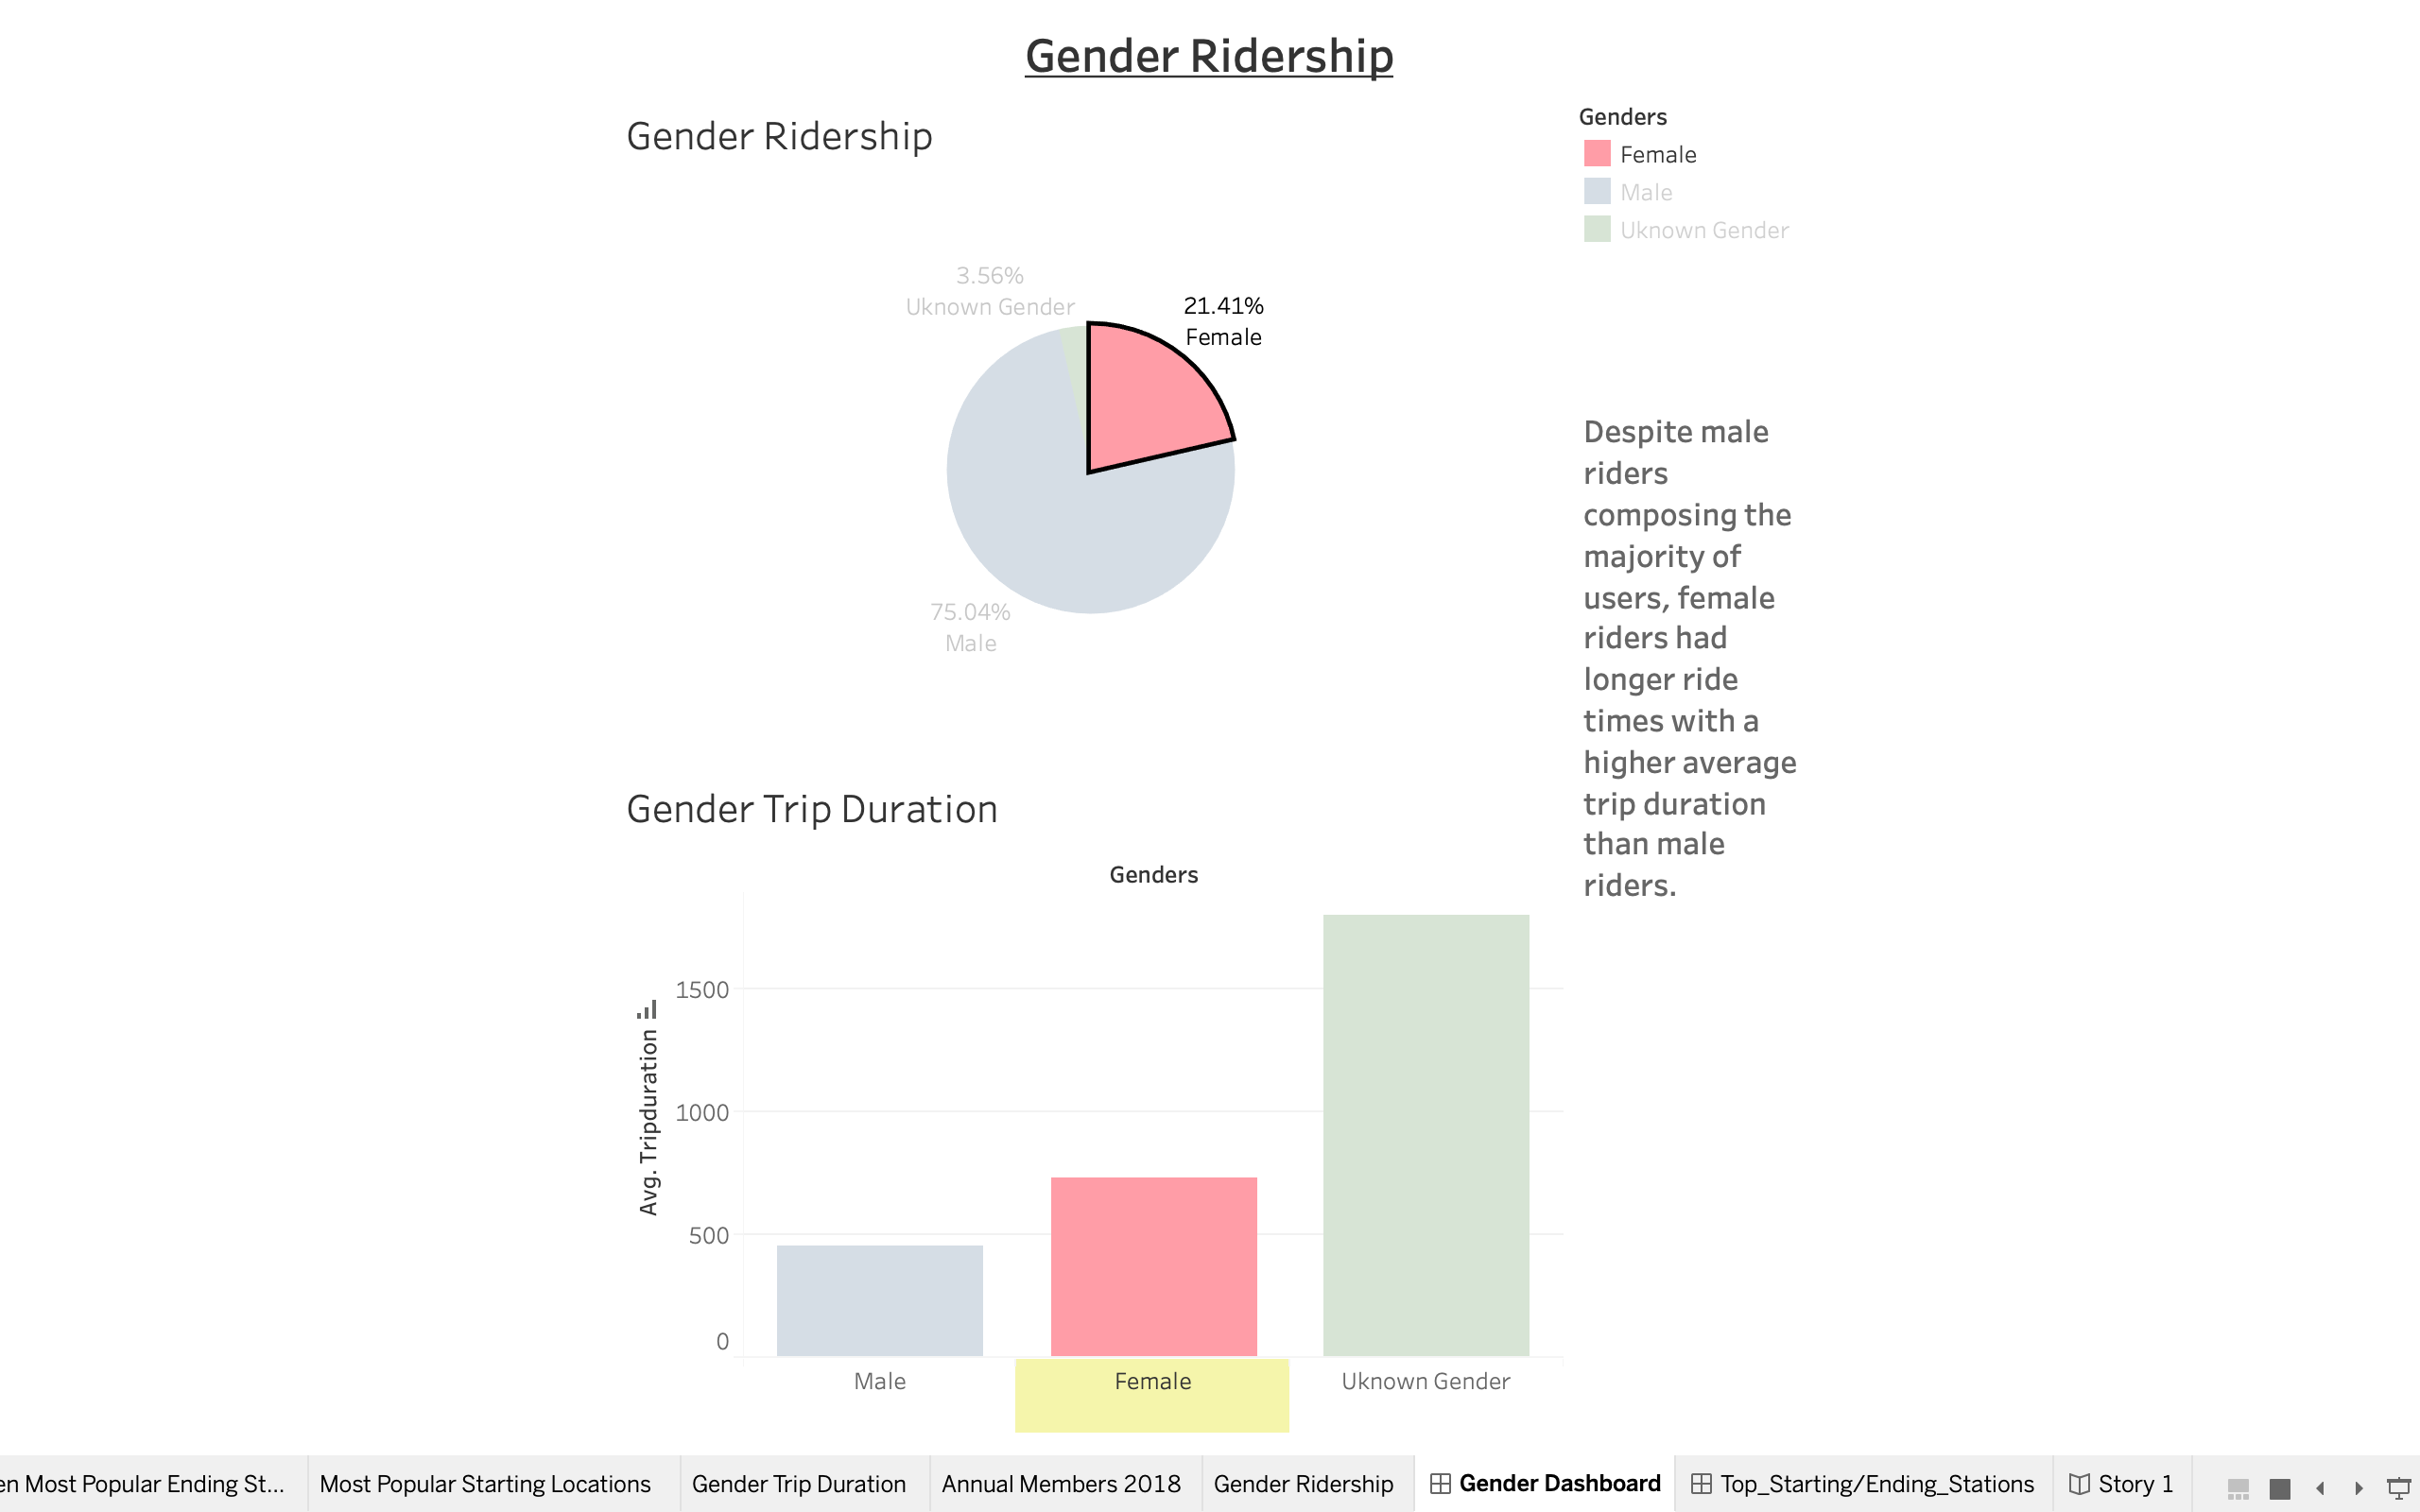

The page's visual inventory and layout, read from the dashboard file:
{"tool":"tableau","page":{"name":"Gender Dashboard","canvas":[650,860],"ordinal":0},"visuals":[{"type":"worksheet","box":[0,0,650,860]},{"type":"worksheet","param":"vert","box":[8,11.4,634,837.2]},{"type":"worksheet","box":[8,11.4,634,58.5]},{"type":"worksheet","param":"horz","box":[8,69.9,634,778.7]},{"type":"worksheet","box":[8,69.9,508,778.7]},{"type":"worksheet","title":"Gender Ridership","mark":"Pie","box":[8,69.9,508,389.3]},{"type":"worksheet","param":"vert","box":[516,69.9,126,778.7]},{"type":"worksheet","title":"Gender Ridership","mark":"Pie","param":"[federated.0fru3da1vs3vj414xzh3x1otqqx8].[none:Calculation_878272360866521092:nk","box":[516,69.9,126,122.7]},{"type":"worksheet","title":"Gender Trip Duration","mark":"Automatic","rows":["tripduration"],"cols":["Calculation_878272360866521092"],"box":[8,459.2,508,389.4]}]}

Visuals, with their boxes on the page's 650x860 design canvas (x1, y1, x2, y2). These are canvas units, not pixel positions in the 2420x1512 screenshot, which may show the page scaled, cropped or inside an application window:
worksheet: l=0, t=0, r=650, b=860
worksheet: l=8, t=11, r=642, b=849
worksheet: l=8, t=11, r=642, b=70
worksheet: l=8, t=70, r=642, b=849
worksheet: l=8, t=70, r=516, b=849
"Gender Ridership" worksheet (Pie marks): l=8, t=70, r=516, b=459
worksheet: l=516, t=70, r=642, b=849
"Gender Ridership" worksheet (Pie marks): l=516, t=70, r=642, b=193
"Gender Trip Duration" worksheet: l=8, t=459, r=516, b=849
